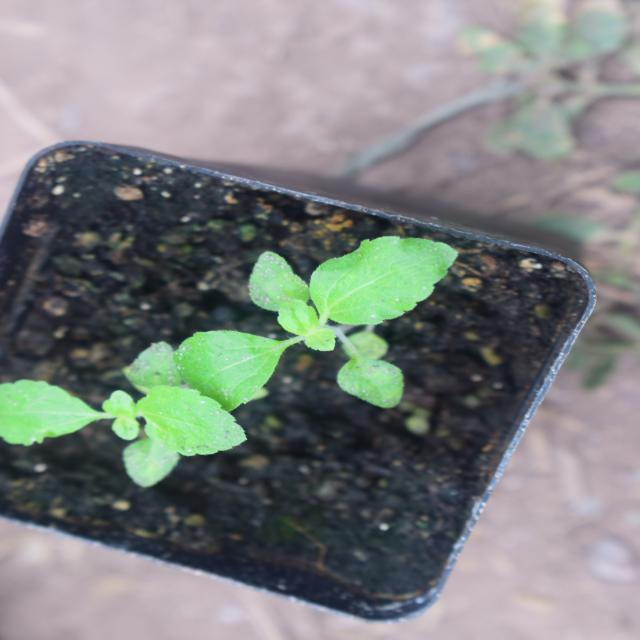billygoat_weed: (245, 172, 401, 482), (141, 0, 279, 242)
